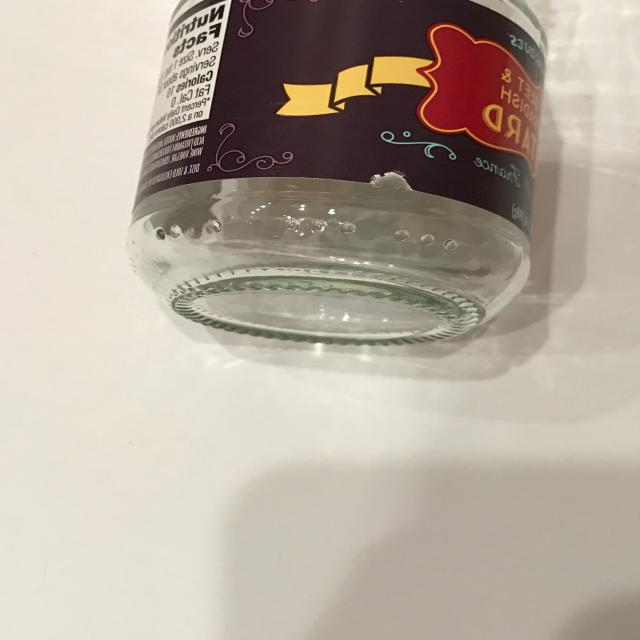glass: (125, 0, 548, 347)
